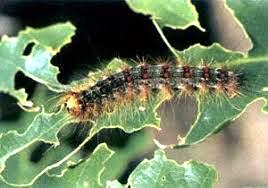Caterpillar: (59, 55, 244, 121)
